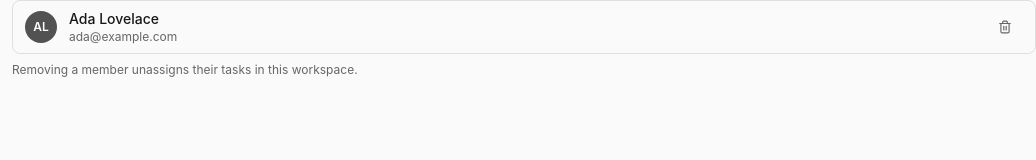
Test case: focuses the safe inline confirmation action and restores the trigger on cancel
Later steps or results of the test are not shown.
Click the button named "Remove Ada Lovelace": x=1005, y=27 [987,9,1023,45]
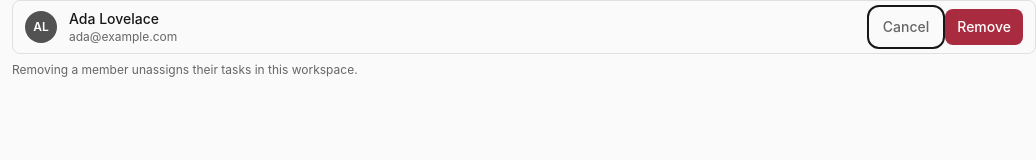
expect the element named "Confirm removing Ada Lovelace" is shown: met, box [871,9,1023,45]
